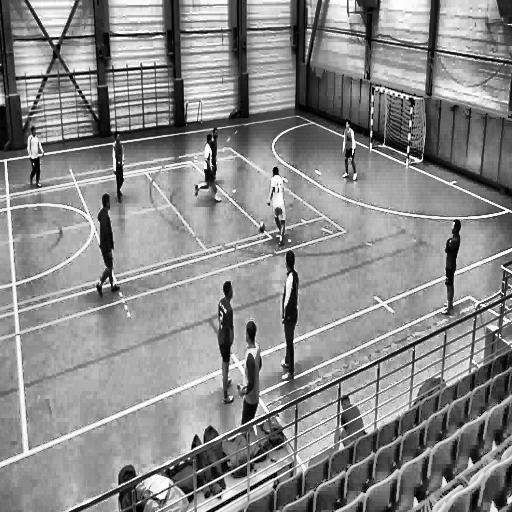ball: (257, 222, 266, 235)
player: (93, 192, 121, 302), (278, 248, 300, 383), (237, 319, 263, 426), (217, 279, 236, 409), (438, 216, 462, 318), (192, 134, 222, 204), (266, 166, 286, 249), (26, 124, 45, 190), (111, 129, 127, 204), (340, 120, 357, 183), (208, 124, 219, 180)
